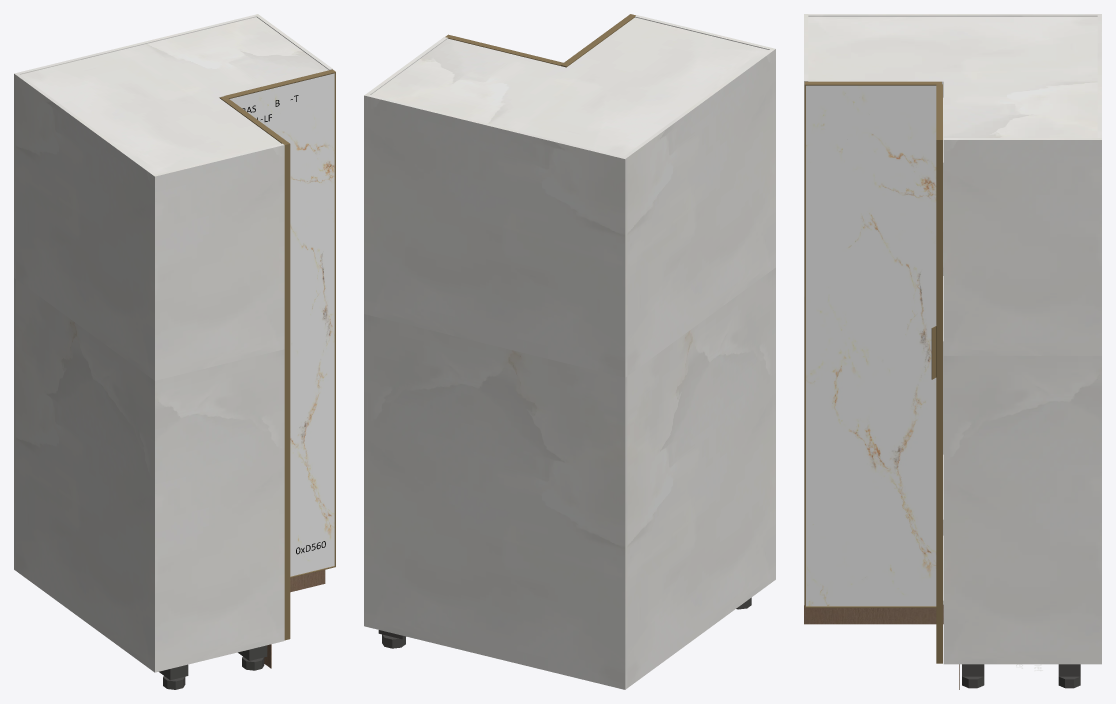
The model's file is TLC-SH-TTS-ST-5SX-XXX-XXX-1050-2040-560-15.glb.
3 renders of one model, left to right at view 1: azimuth 30°, elevation 25°; view 2: azimuth 150°, elevation 25°; view 3: azimuth 270°, elevation 25°, orthographic. The views are drawn at different scales.
Visible parts, largest first — view 1: TP_node_0, TP_node_2, TP, Object_node_11, Extrusion_node_6, TP_node_1, Extrusion_node, Extrusion, Object_node_15; view 2: TP_node_1, TP_node_0, TP, TP_node, TP_node_2; view 3: TP_node, Object_node_13, TP, Extrusion_node, Object_node_17, TP_node_0, Extrusion_node_6, TP_node_2, Extrusion_node_3, TP_node_1.
Part boxes in pixels (bbox=[...]): TP_node_0: bbox=[16, 74, 155, 670]; TP_node_2: bbox=[153, 143, 284, 672]; TP: bbox=[20, 17, 328, 174]; Object_node_11: bbox=[229, 73, 334, 576]; Extrusion_node_6: bbox=[284, 144, 290, 640]; TP_node_1: bbox=[14, 15, 256, 570]; Extrusion_node: bbox=[334, 72, 335, 566]; Extrusion: bbox=[225, 69, 335, 98]; Object_node_15: bbox=[290, 570, 325, 592]; TP_node_1: bbox=[367, 95, 627, 689]; TP_node_0: bbox=[624, 49, 773, 687]; TP: bbox=[371, 17, 768, 156]; TP_node: bbox=[364, 37, 447, 626]; TP_node_2: bbox=[635, 15, 775, 580]; TP_node: bbox=[943, 138, 1101, 664]; Object_node_13: bbox=[806, 85, 936, 606]; TP: bbox=[808, 16, 1097, 137]; Extrusion_node: bbox=[936, 140, 942, 663]; Object_node_17: bbox=[804, 604, 943, 624]; TP_node_0: bbox=[808, 14, 1097, 535]; Extrusion_node_6: bbox=[804, 85, 805, 607]; TP_node_2: bbox=[804, 14, 808, 605]; Extrusion_node_3: bbox=[804, 81, 941, 85]; TP_node_1: bbox=[1097, 14, 1101, 137].
Size of what is drawn, in the model's own units: 1.05 by 2.14 by 1.05.
7 materials, 3 textured.
